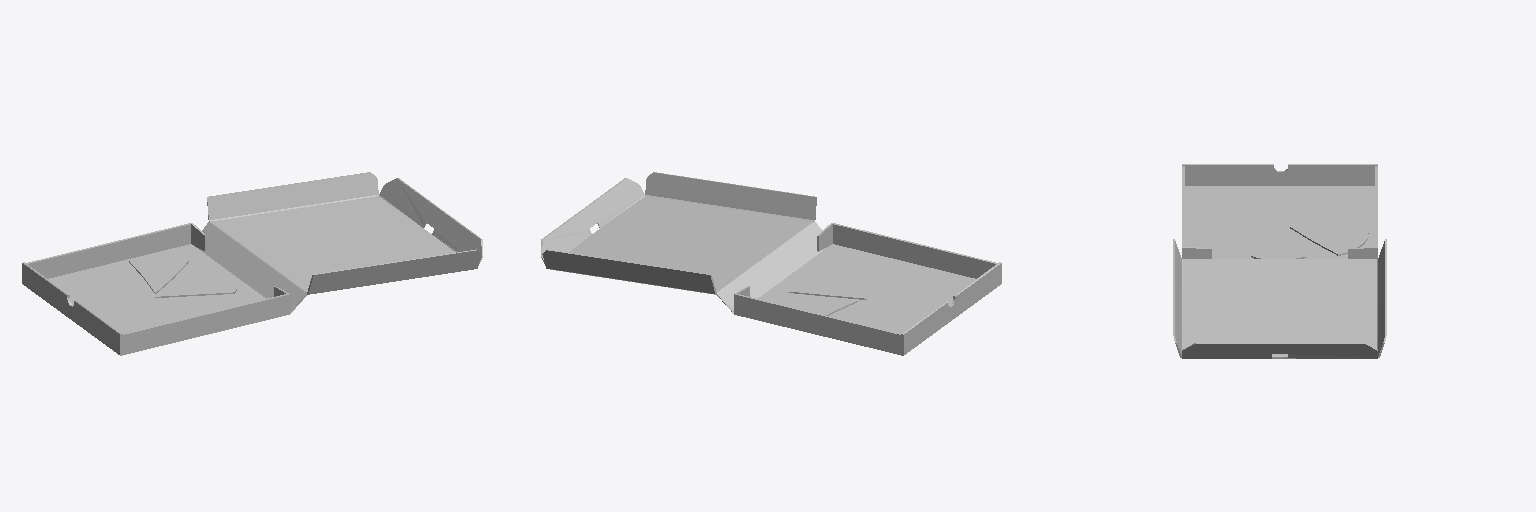
File: pizza.obj
3 renders of one model, left to right at view 1: azimuth 30°, elevation 25°; view 2: azimuth 150°, elevation 25°; view 3: azimuth 270°, elevation 25°, orthographic.
Visible parts, largest first — view 1: Object_Model001_Material001; view 2: Object_Model001_Material001; view 3: Object_Model001_Material001.
Part boxes in pixels (x1,y1,x2,y2): Object_Model001_Material001: (22, 172, 482, 355); Object_Model001_Material001: (541, 172, 1001, 355); Object_Model001_Material001: (1173, 164, 1386, 358).
Size of the model in its own units: 2.5 by 0.2474 by 1.25.